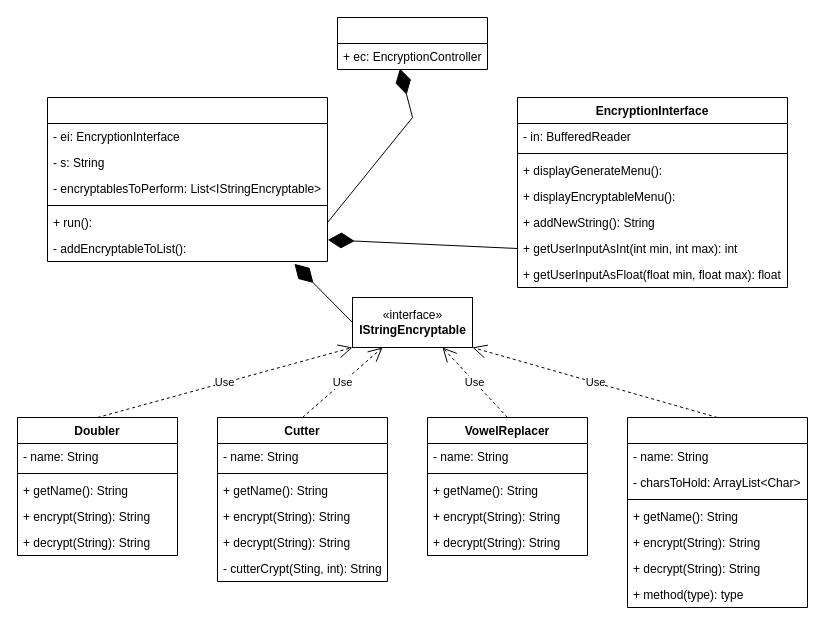
This 825x628 diagram has some shape labels left out. The shapes that lost their labels are listed below. From the top down, each one's box as (x1, y1, x2, y2) in pixels, then its label:
(336, 16, 488, 70): Scrambler
(46, 96, 328, 262): EncryptionController
(626, 416, 808, 608): AlternateRemoval
